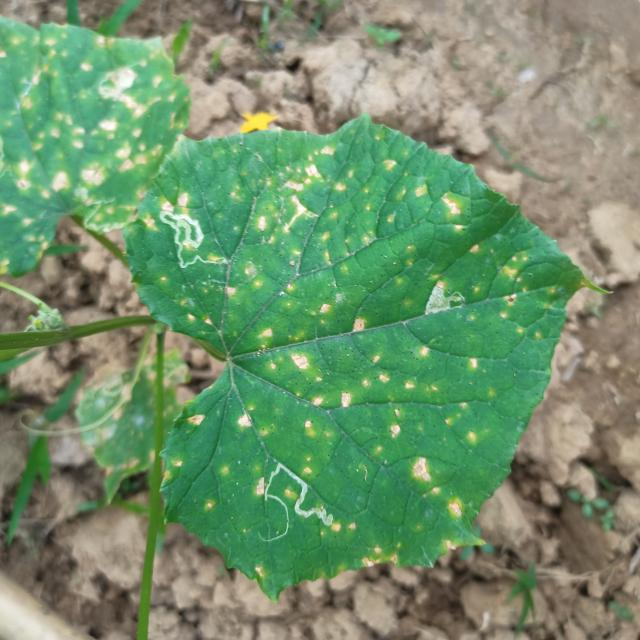disease_cucumber: (147, 143, 553, 558), (0, 26, 156, 236)
